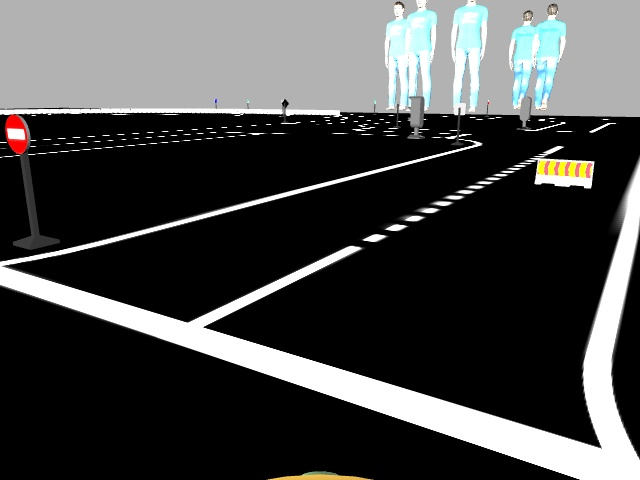ClosedRoadStand: (536, 158, 590, 188)
NoEntry: (3, 112, 30, 150)
